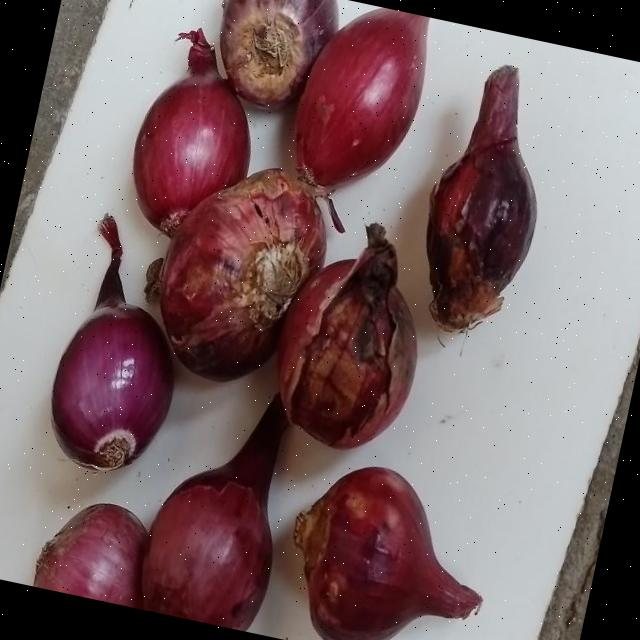Onion: (160, 167, 325, 380), (142, 393, 288, 631), (294, 466, 482, 640), (277, 222, 417, 448), (50, 212, 172, 469), (427, 63, 536, 331), (295, 6, 429, 190), (133, 26, 249, 235), (33, 502, 148, 609), (220, 0, 337, 105)
